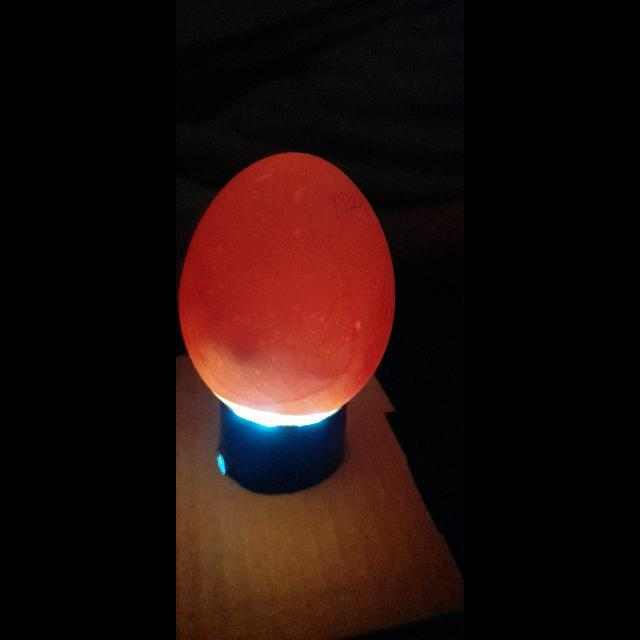Fertile: (176, 149, 410, 425)
